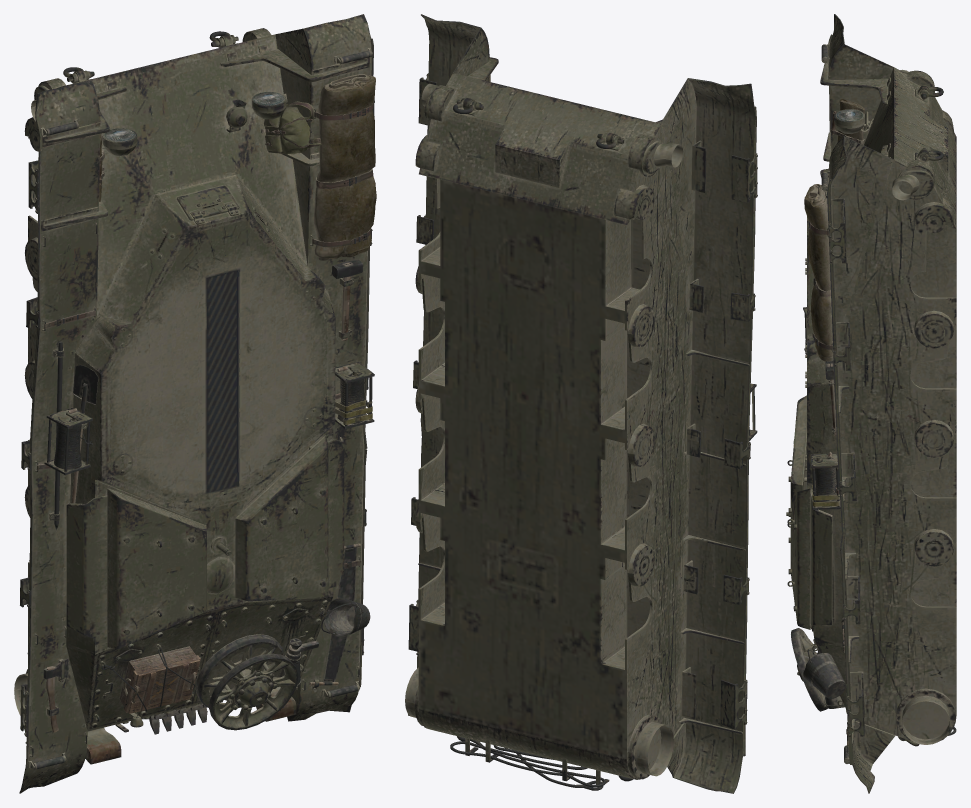
The model's file is Hull.glb.
3 renders of one model, left to right at view 1: azimuth 30°, elevation 25°; view 2: azimuth 150°, elevation 25°; view 3: azimuth 270°, elevation 25°, orthographic. The views are drawn at different scales.
Visible parts, largest first — view 1: set_0_group_0; view 2: set_0_group_0; view 3: set_0_group_0.
Boxes of the visible parts, x1,y1,x2,y2 form: set_0_group_0: (14,14,376,793); set_0_group_0: (405,14,757,793); set_0_group_0: (786,14,956,793).
Size of the model in its own units: 2.57 by 5.17 by 1.25.
Materials: 1 (1 with a texture image).
